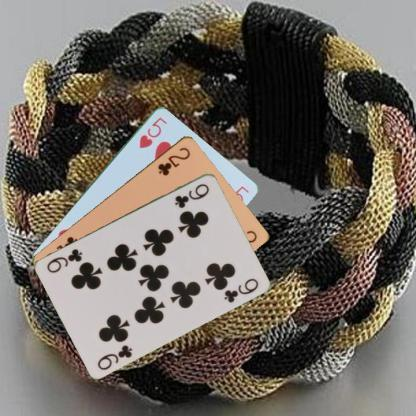2c: (155, 144, 192, 177)
5h: (136, 113, 168, 150)
9c: (95, 341, 134, 370), (172, 180, 210, 209)
